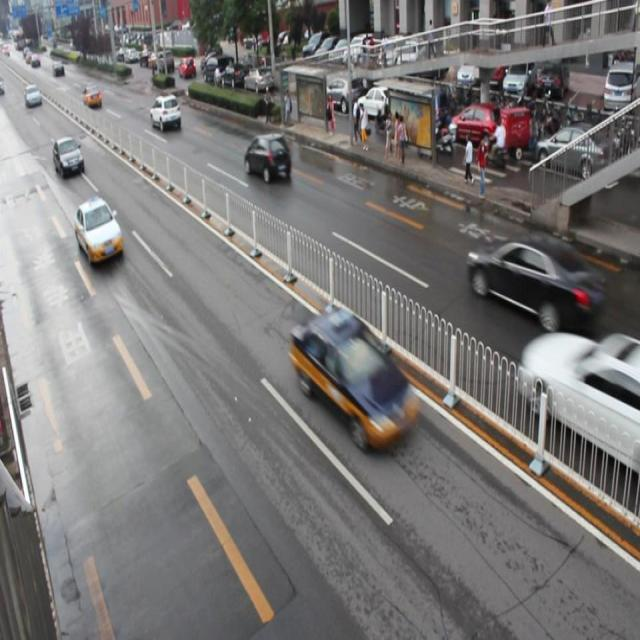car: (290, 307, 417, 447), (519, 329, 640, 467), (467, 226, 599, 334), (75, 196, 123, 266), (244, 131, 292, 184), (54, 135, 86, 180), (150, 92, 182, 132)
